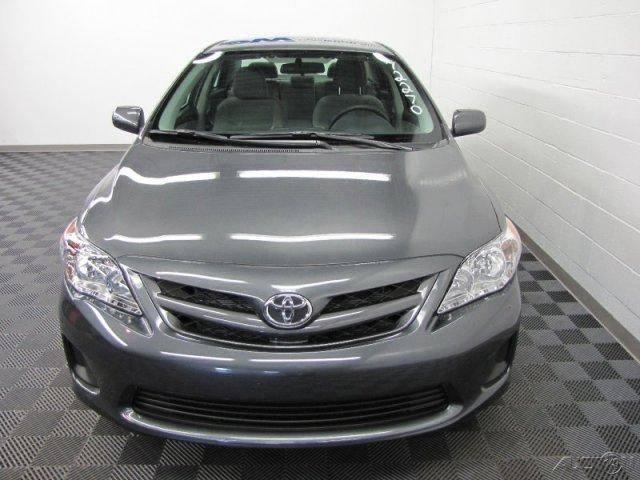Sedan: (57, 34, 523, 449)
